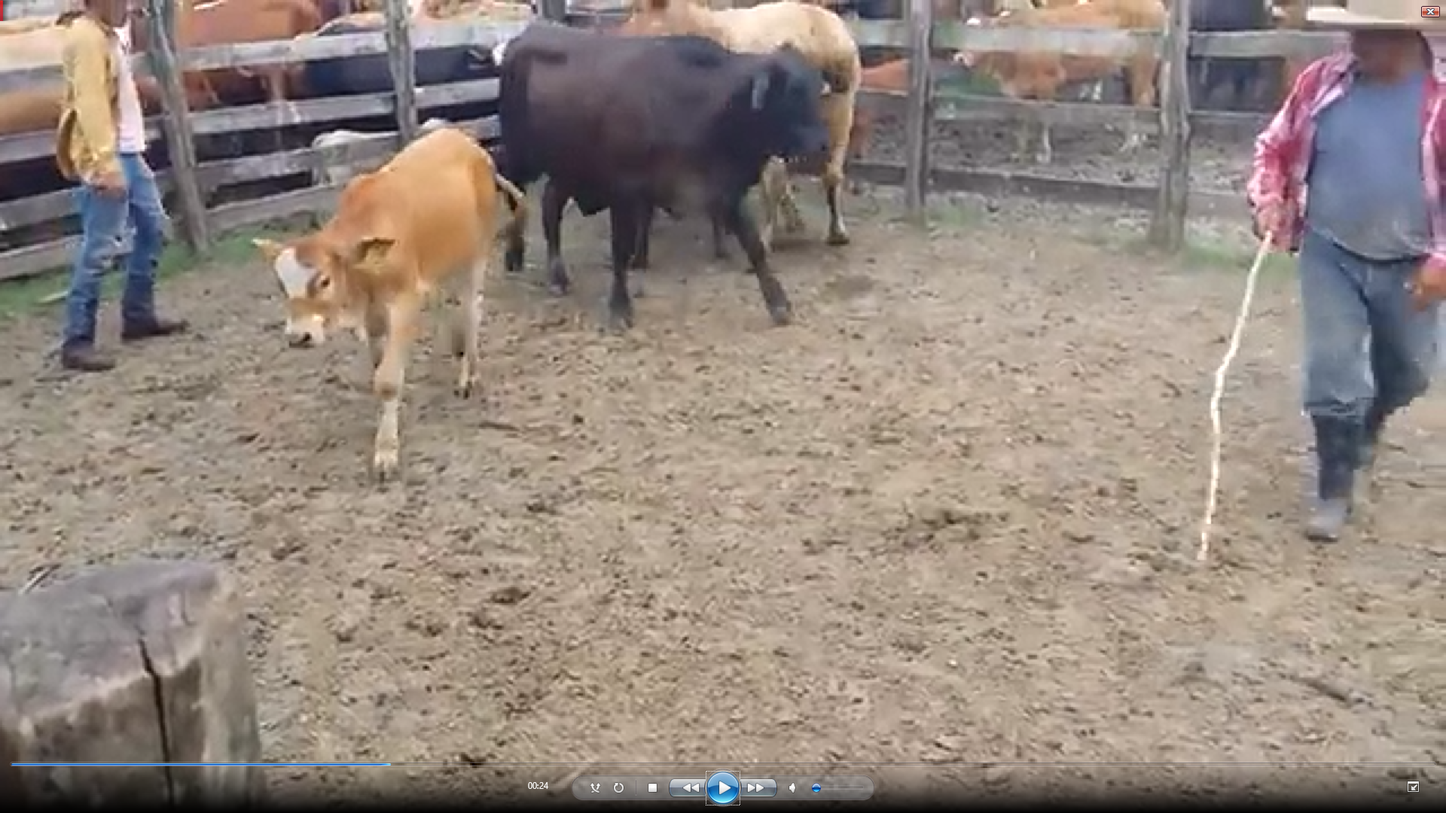bovino: (494, 13, 842, 322), (264, 126, 520, 476)
